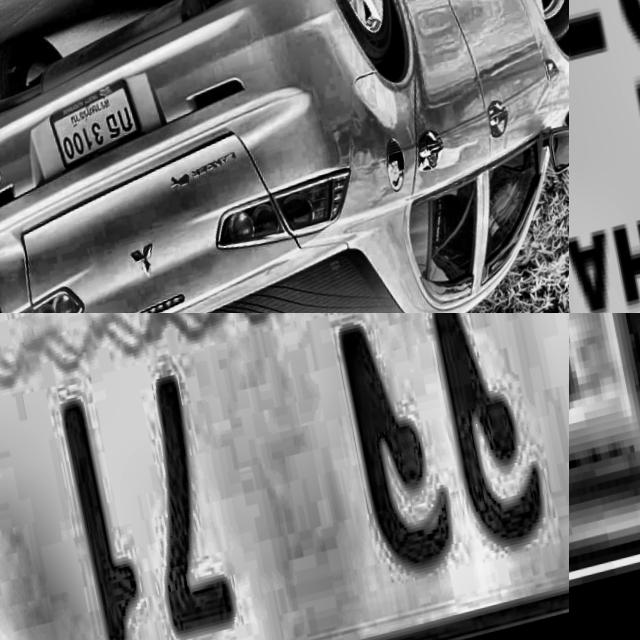license-plate: (0, 313, 569, 640), (569, 0, 640, 313), (569, 313, 640, 621), (42, 77, 147, 178)
